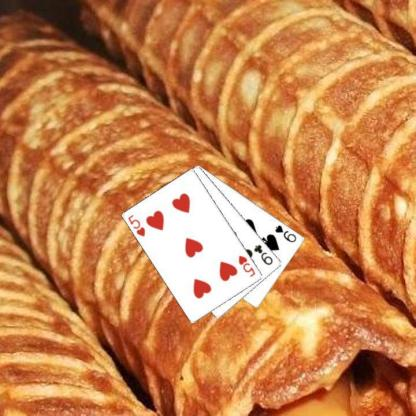5H: (125, 212, 147, 238), (236, 253, 257, 279)
9C: (252, 242, 274, 266)
9S: (272, 222, 298, 244)
